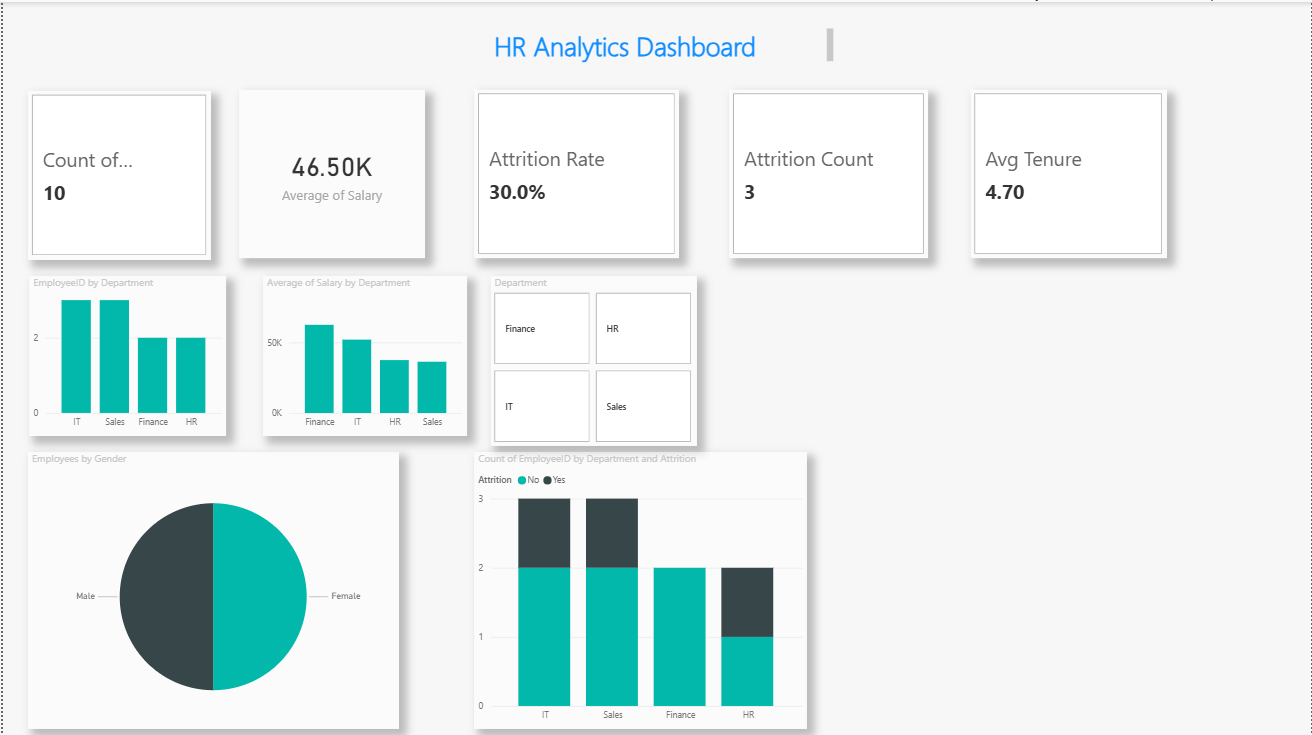

Layout of this report page (visuals, bound fields, positions):
{"tool":"powerbi","page":{"name":"Page 1","canvas":[1600,900],"ordinal":0},"visuals":[{"type":"card","fields":{"Values":["Avg(Sheet1.Salary)"]},"box":[289,107.5,227.3,206.2],"z":0},{"type":"clusteredColumnChart","title":" EmployeeID by Department","fields":{"Category":["Sheet1.Department"],"Y":["CountNonNull(Sheet1.EmployeeID)"]},"box":[32,334.5,240.8,196],"z":1000},{"type":"pieChart","title":"Employees by Gender","fields":{"Category":["Sheet1.Gender"],"Y":["CountNonNull(Sheet1.EmployeeID)"]},"box":[30,550,453.3,338.3],"z":2000},{"type":"advancedSlicerVisual","fields":{"Values":["Sheet1.Department"]},"box":[596.7,335,251.7,208.3],"z":3000},{"type":"columnChart","fields":{"Category":["Sheet1.Department"],"Y":["Avg(Sheet1.Salary)"]},"box":[317.5,334.5,249.3,196],"z":4000},{"type":"cardVisual","fields":{"Data":["Sheet1.Attrition Rate"]},"box":[576.2,107.5,250.2,206.2],"z":5000},{"type":"cardVisual","fields":{"Data":["Sheet1.Avg Tenure"]},"box":[1182.4,107.5,239.6,206.2],"z":6000},{"type":"cardVisual","fields":{"Data":["Sheet1.Attrition Count"]},"box":[888.1,107.5,243.2,206.2],"z":7000},{"type":"cardVisual","title":"Total Employees","fields":{"Data":["CountNonNull(Sheet1.EmployeeID)"]},"box":[30,108.3,223.3,206.7],"z":8000},{"type":"textbox","box":[596.6,27.7,424,51.1],"z":9000},{"type":"columnChart","fields":{"Series":["Sheet1.Attrition"],"Category":["Sheet1.Department"],"Y":["CountNonNull(Sheet1.EmployeeID)"]},"box":[576.7,550,406.7,338.3],"z":10000}]}

Visuals, with their boxes in screenshot pixels (x1, y1, x2, y2), scaled from the page's 1600x900 canvas onto the 1312x735 screenshot:
card - Avg(Sheet1.Salary): (left=237, top=88, right=423, bottom=256)
" EmployeeID by Department" clusteredColumnChart: (left=26, top=273, right=224, bottom=433)
"Employees by Gender" pieChart: (left=25, top=449, right=396, bottom=725)
advancedSlicerVisual - Sheet1.Department: (left=489, top=274, right=696, bottom=444)
columnChart - Sheet1.Department x Avg(Sheet1.Salary): (left=260, top=273, right=465, bottom=433)
cardVisual - Sheet1.Attrition Rate: (left=472, top=88, right=678, bottom=256)
cardVisual - Sheet1.Avg Tenure: (left=970, top=88, right=1166, bottom=256)
cardVisual - Sheet1.Attrition Count: (left=728, top=88, right=928, bottom=256)
"Total Employees" cardVisual: (left=25, top=88, right=208, bottom=257)
textbox: (left=489, top=23, right=837, bottom=64)
columnChart - Sheet1.Attrition x Sheet1.Department: (left=473, top=449, right=806, bottom=725)
